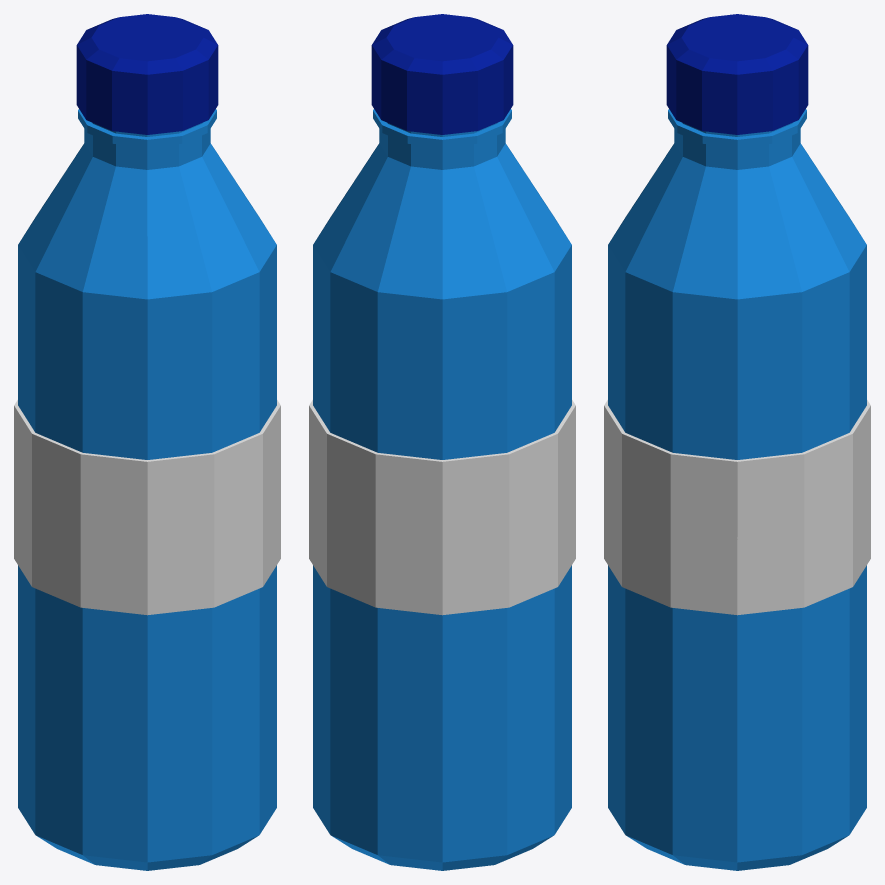
The model's file is water bottle 1.fbx.
3 views of the same model, side by side, from view 1: azimuth 30°, elevation 25°; view 2: azimuth 150°, elevation 25°; view 3: azimuth 270°, elevation 25° (orthographic).
Visible parts, largest first — view 1: Cylinder, Cylinder.001; view 2: Cylinder, Cylinder.001; view 3: Cylinder, Cylinder.001.
Boxes of the visible parts, left/top/right/bottom form: Cylinder: left=14, top=109, right=280, bottom=870; Cylinder.001: left=76, top=14, right=218, bottom=134; Cylinder: left=309, top=109, right=575, bottom=870; Cylinder.001: left=371, top=14, right=513, bottom=134; Cylinder: left=604, top=109, right=870, bottom=870; Cylinder.001: left=666, top=14, right=808, bottom=134.
Bounding box in the file's own units: 273 × 892 × 273.
